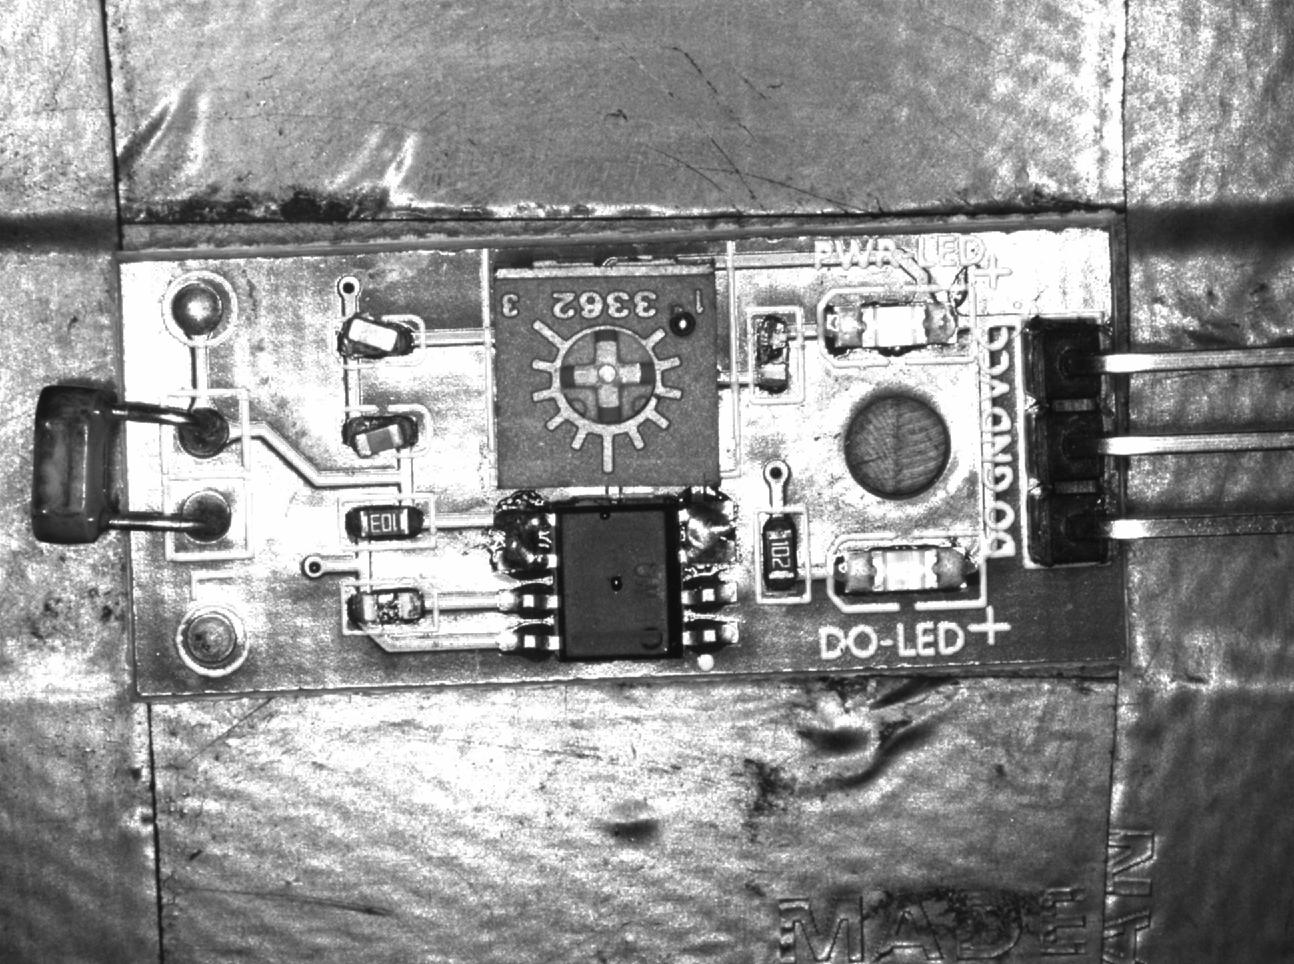bridge: (488, 500, 557, 580), (679, 496, 741, 569)
lifted: (335, 406, 431, 457), (331, 314, 428, 361)
miss: (747, 306, 805, 405), (340, 579, 440, 634)
ok: (753, 507, 811, 602), (336, 497, 437, 546)
